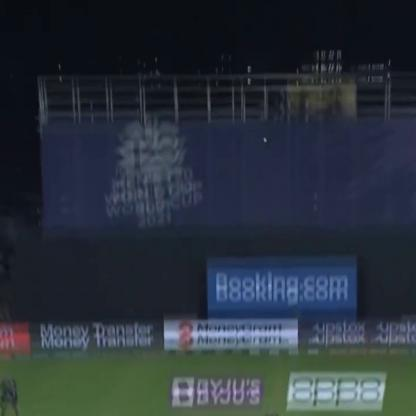ball: (260, 134, 271, 145)
